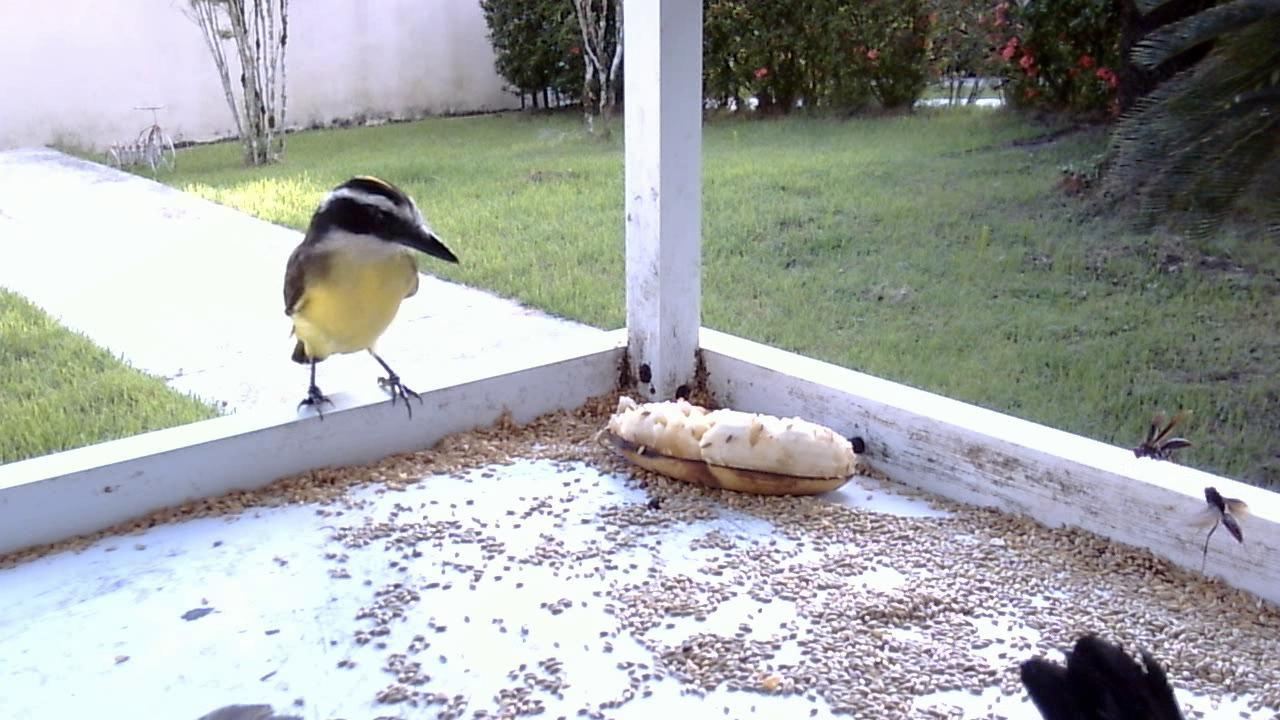bem_te_vi: (269, 165, 466, 439)
